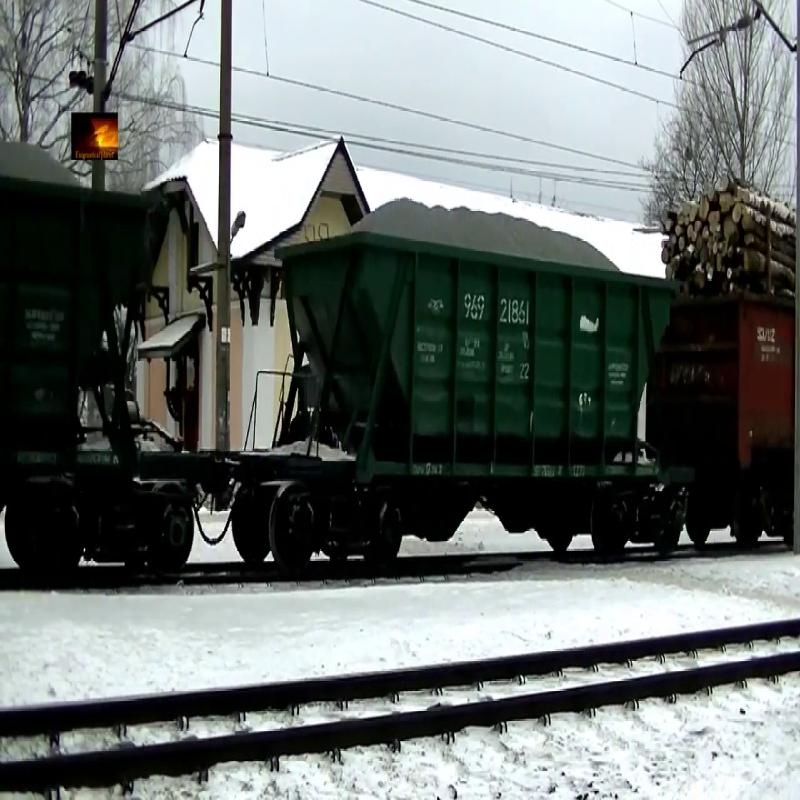train: (253, 172, 687, 574), (1, 141, 177, 582)
